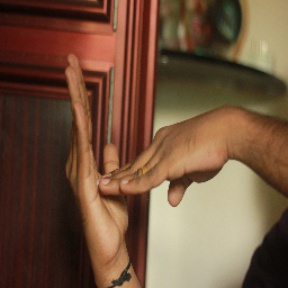Z: (56, 48, 229, 252)
